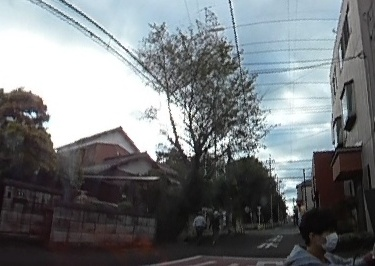person: (282, 205, 362, 266), (190, 210, 207, 243), (207, 207, 221, 241)
